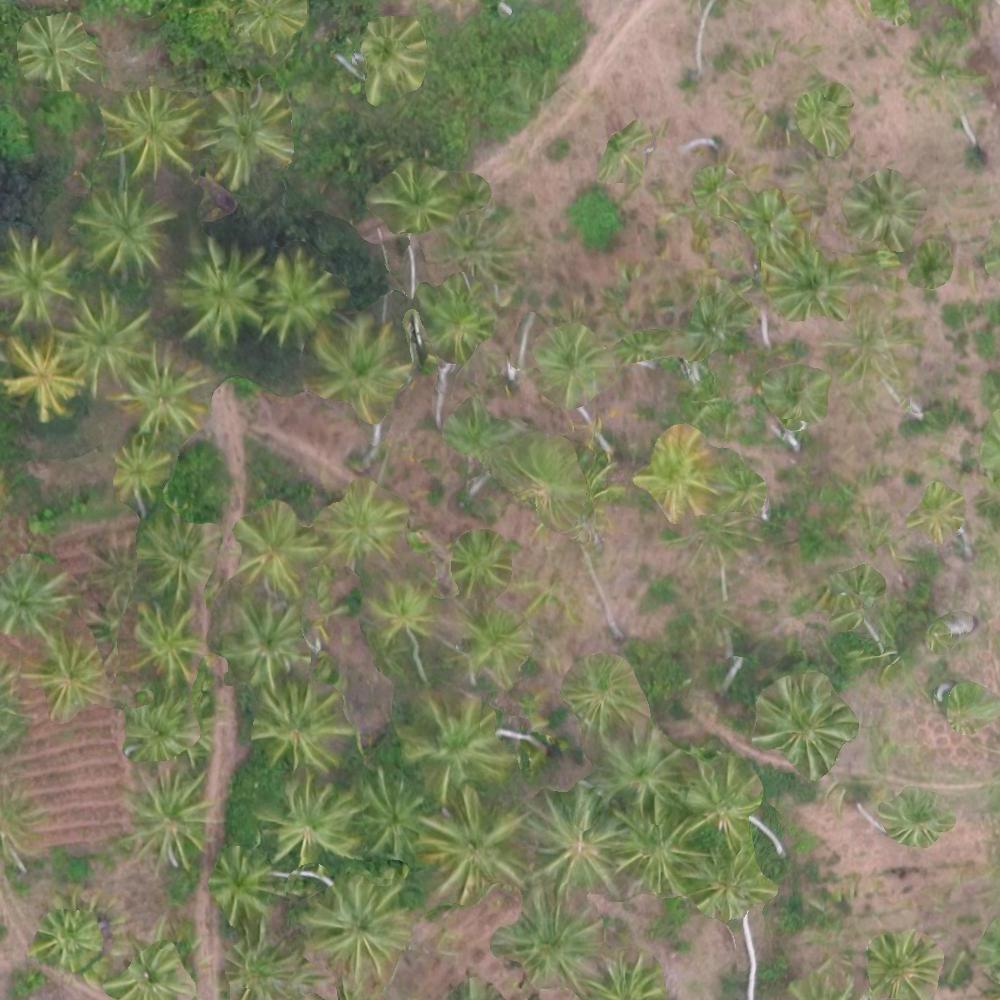Palm: (421, 788, 526, 905), (302, 872, 410, 982), (526, 790, 628, 893), (411, 699, 513, 796), (502, 889, 601, 984), (118, 763, 215, 858), (251, 681, 349, 774), (761, 677, 851, 776), (310, 319, 404, 413), (197, 88, 292, 177), (172, 245, 260, 340), (612, 801, 700, 894), (348, 768, 429, 869), (77, 191, 166, 280), (102, 90, 192, 177), (263, 783, 353, 868), (113, 350, 204, 434), (220, 598, 310, 680), (66, 295, 143, 389), (236, 506, 319, 589), (133, 510, 215, 593), (260, 247, 336, 334), (591, 727, 674, 804), (564, 650, 642, 731), (5, 335, 82, 417), (32, 631, 107, 715), (683, 761, 763, 838), (122, 607, 203, 680), (221, 926, 303, 998), (1, 236, 69, 321), (418, 280, 493, 357), (325, 484, 398, 563), (374, 160, 455, 231), (692, 844, 772, 914), (3, 561, 72, 642), (19, 14, 94, 85), (360, 19, 429, 95), (362, 578, 434, 649), (458, 606, 527, 676), (866, 929, 940, 993), (447, 531, 510, 599), (210, 850, 272, 919), (33, 907, 97, 973), (126, 696, 185, 764), (881, 788, 946, 847), (115, 941, 183, 996), (112, 440, 171, 498)
